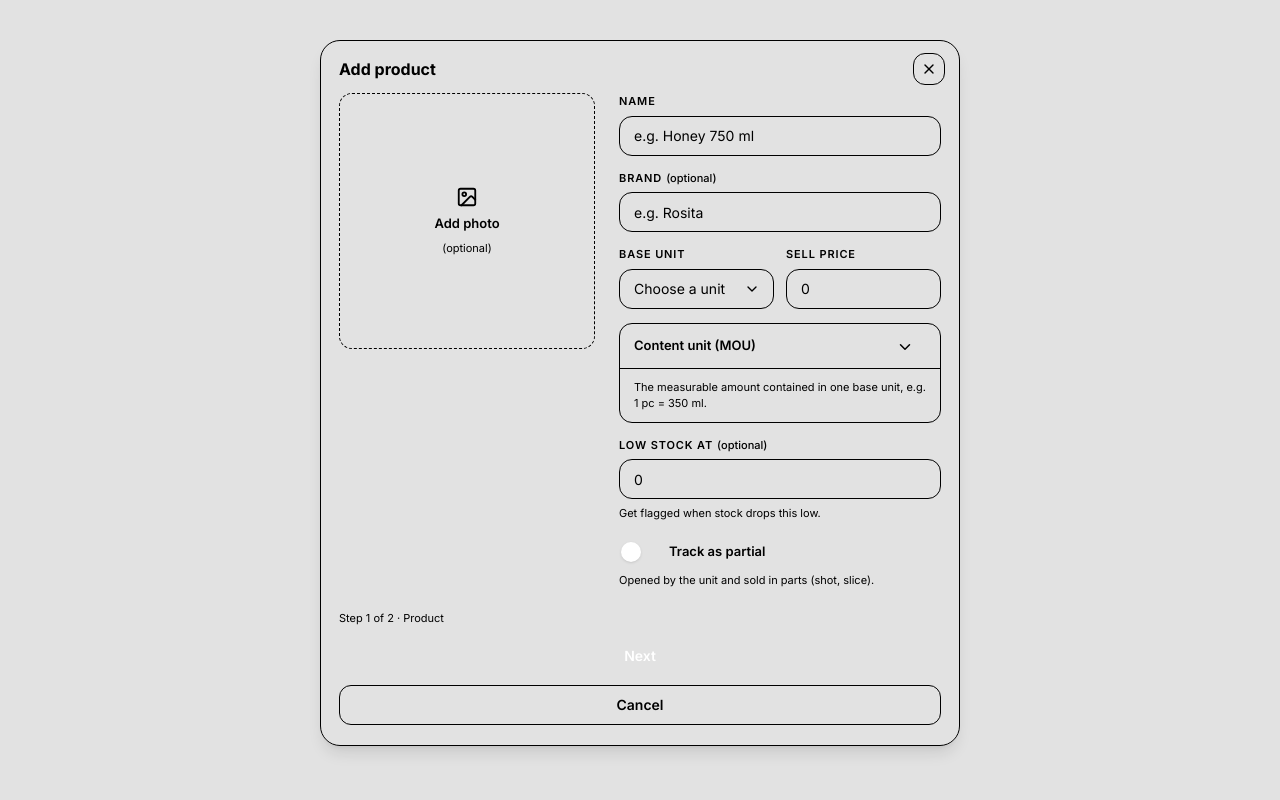
Test: AddProductDialog › shows inline errors for a submitted empty form
This screenshot has width=1280, height=800.
Click the button "Next" at (640, 656), box x1=339 y1=636 x2=941 y2=674
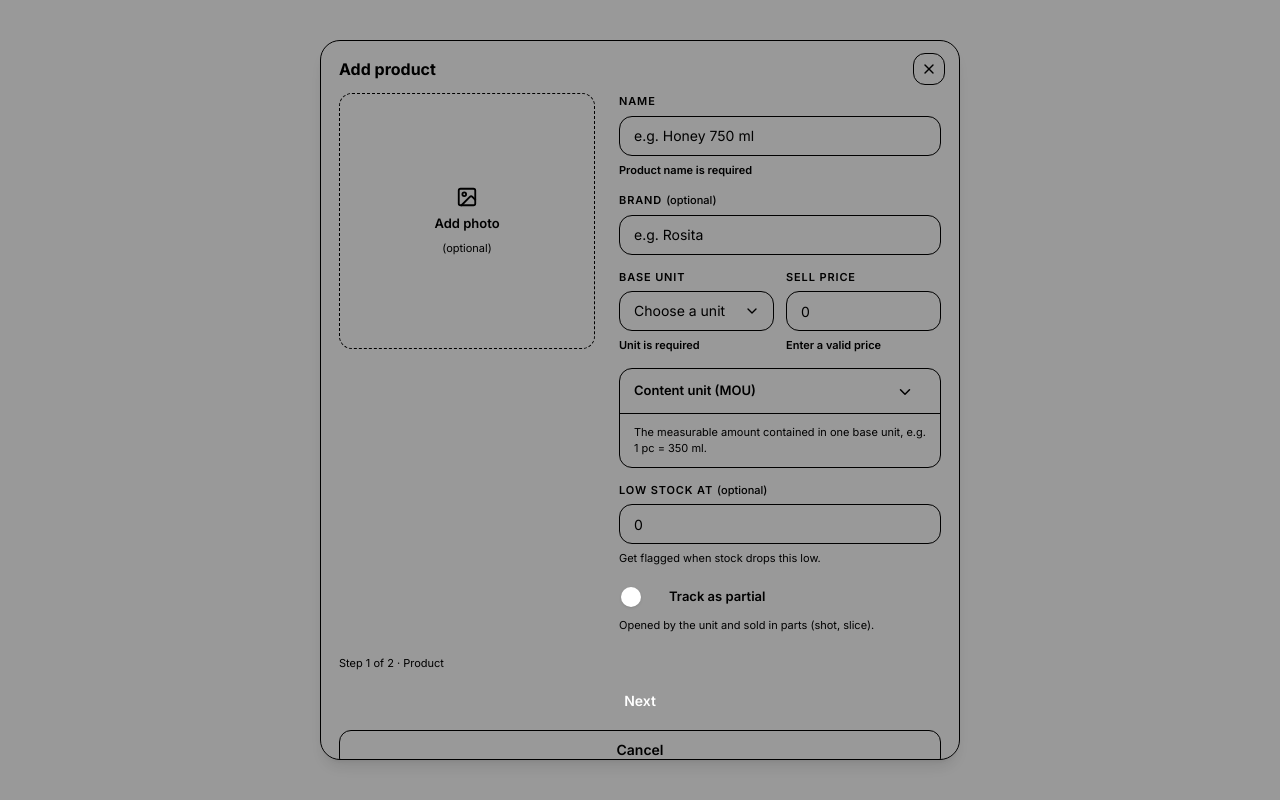
Check: the message "Product name is required" is shown, box x1=619 y1=162 x2=752 y2=176
Check: the message "Unit is required" is shown, box x1=619 y1=338 x2=700 y2=352
Check: the message "Enter a valid price" is shown, box x1=786 y1=338 x2=881 y2=352
